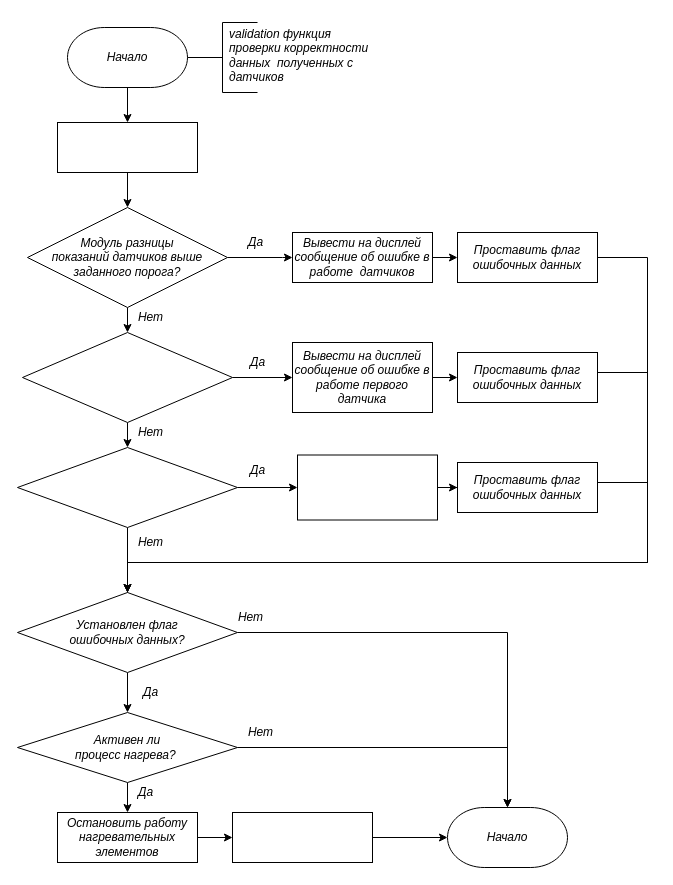
Some shapes in this 673 by 885 pixel diagram are drawn without their labels. The centre of each missing label's shape, as x and y in pixels:
"Вывести на дисплей сообщение об ошибке в работе второго датчика" goes at (367,487).
"Задание начальных значений флагам" goes at (127,147).
"Остановить выполнение программы вызовом функции abort()" goes at (302,837).
"Показания второго установленного порога?" goes at (127,487).
"Показания первого датчика выше установленного порога?" goes at (127,377).
